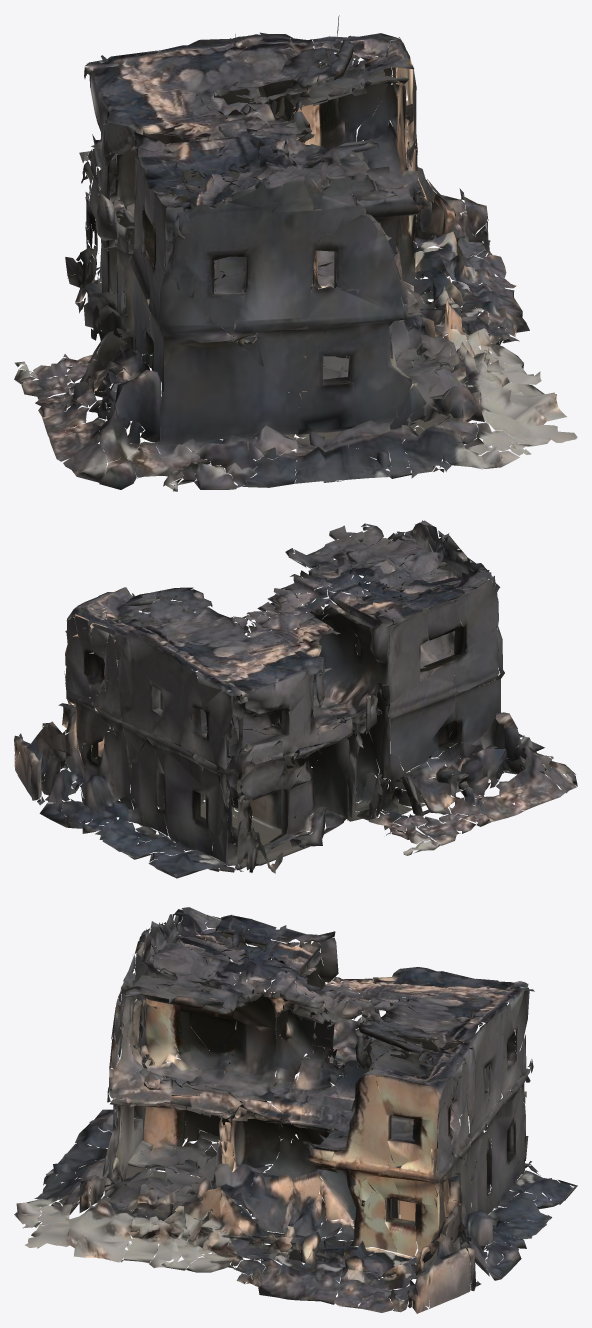
File: house.glb
The picture shows the model from 3 angles, top to bottom: view 1: azimuth 30°, elevation 25°; view 2: azimuth 150°, elevation 25°; view 3: azimuth 270°, elevation 25°; orthographic projection. The views are drawn at different scales.
Visible parts, largest first — view 1: house; view 2: house; view 3: house.
Part boxes in pixels (bbox=[...]): house: bbox=[14, 15, 577, 491]; house: bbox=[14, 520, 577, 878]; house: bbox=[14, 907, 577, 1313].
Size of the model in its own units: 10.58 by 5.15 by 10.87.
Materials: 1 (1 with a texture image).
